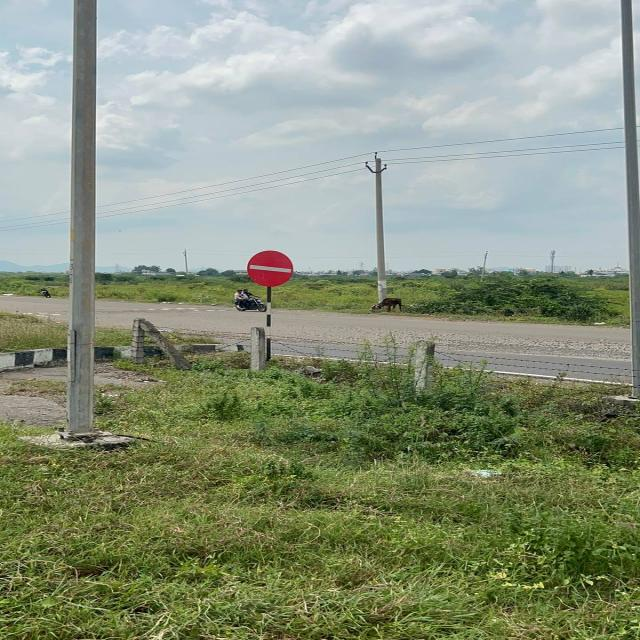No_entry: (226, 244, 303, 291)
